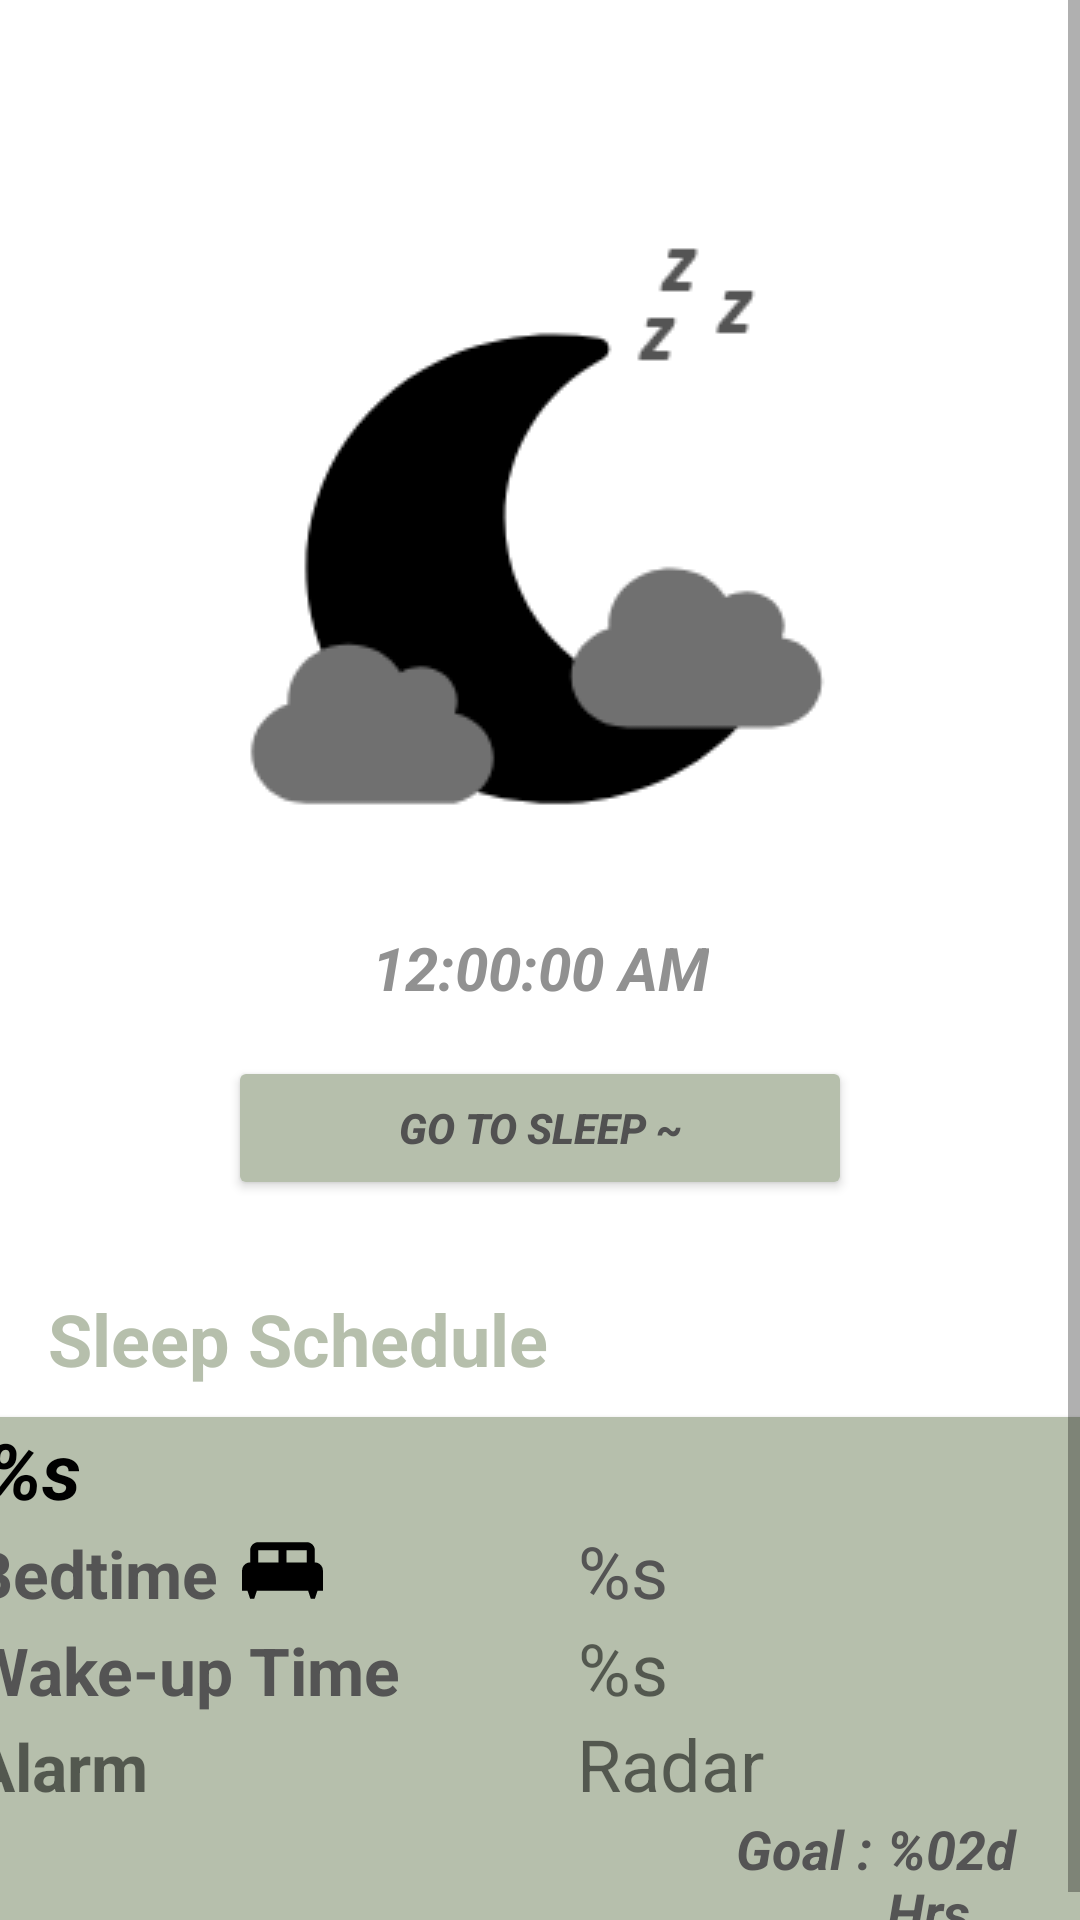

Screen size 1080px×1920px. Icon name, then its box in pixels as detection(x1, y1, x2, y2):
bed: detection(242, 1542, 323, 1599)
